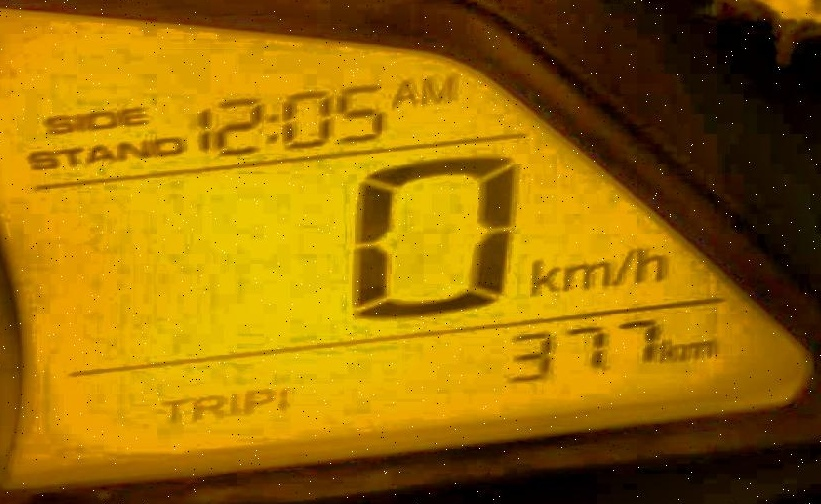0: (345, 152, 516, 320), (280, 90, 330, 149)
1: (195, 102, 211, 156), (277, 384, 292, 413)
2: (215, 96, 258, 157)
3: (510, 330, 555, 382)
5: (337, 81, 387, 144)
7: (563, 320, 613, 379), (617, 314, 658, 369)
X: (560, 259, 608, 293), (633, 242, 663, 285), (526, 256, 555, 296), (243, 385, 273, 419), (608, 249, 632, 288), (420, 75, 451, 104), (190, 394, 223, 419), (390, 78, 416, 108), (115, 139, 148, 160), (682, 339, 713, 359), (85, 110, 115, 130), (152, 136, 183, 155), (118, 106, 148, 125), (43, 113, 70, 134), (160, 396, 183, 420), (28, 150, 57, 169), (657, 337, 678, 362), (83, 145, 113, 162), (56, 147, 80, 166), (265, 109, 276, 144), (227, 389, 238, 416), (73, 111, 85, 134)
